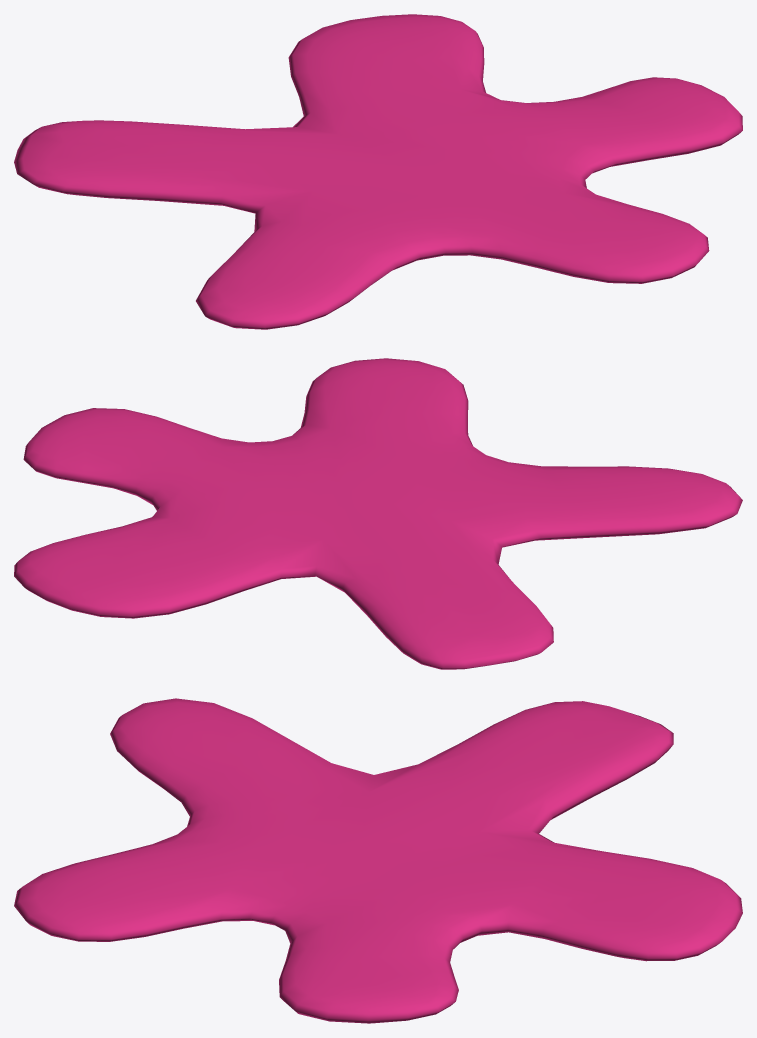
File: splat.gltf
3 views of the same model, one above another, from view 1: azimuth 30°, elevation 25°; view 2: azimuth 150°, elevation 25°; view 3: azimuth 270°, elevation 25° (orthographic). The views are drawn at different scales.
Visible parts, largest first — view 1: splat; view 2: splat; view 3: splat.
Part boxes in pixels (<box>): splat: <box>14,14,742,329</box>; splat: <box>14,358,742,669</box>; splat: <box>14,698,742,1023</box>.
Bounding box in the file's own units: 2.67 × 0.1041 × 2.57.
